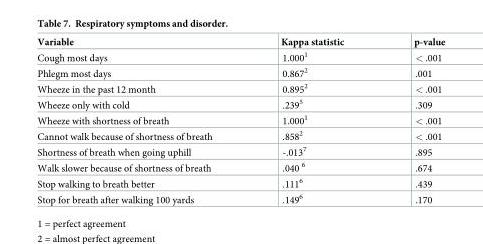table: (36, 36, 444, 204)
table column: (36, 36, 245, 204), (245, 36, 378, 204), (378, 36, 444, 204)
table column header: (36, 36, 444, 48)
table row: (36, 48, 444, 64), (36, 64, 444, 80), (36, 80, 444, 96), (36, 111, 444, 127), (36, 127, 444, 143), (36, 143, 444, 159), (36, 159, 444, 175), (36, 96, 444, 111), (36, 175, 444, 190), (36, 190, 444, 204), (36, 36, 444, 48)
